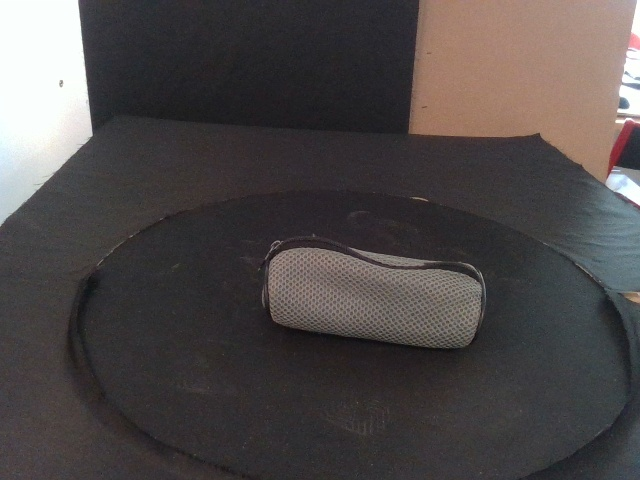pencil_case: (258, 235, 484, 351)
